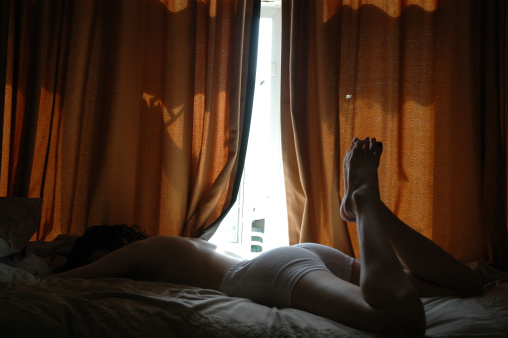deitado: (26, 90, 507, 338)
